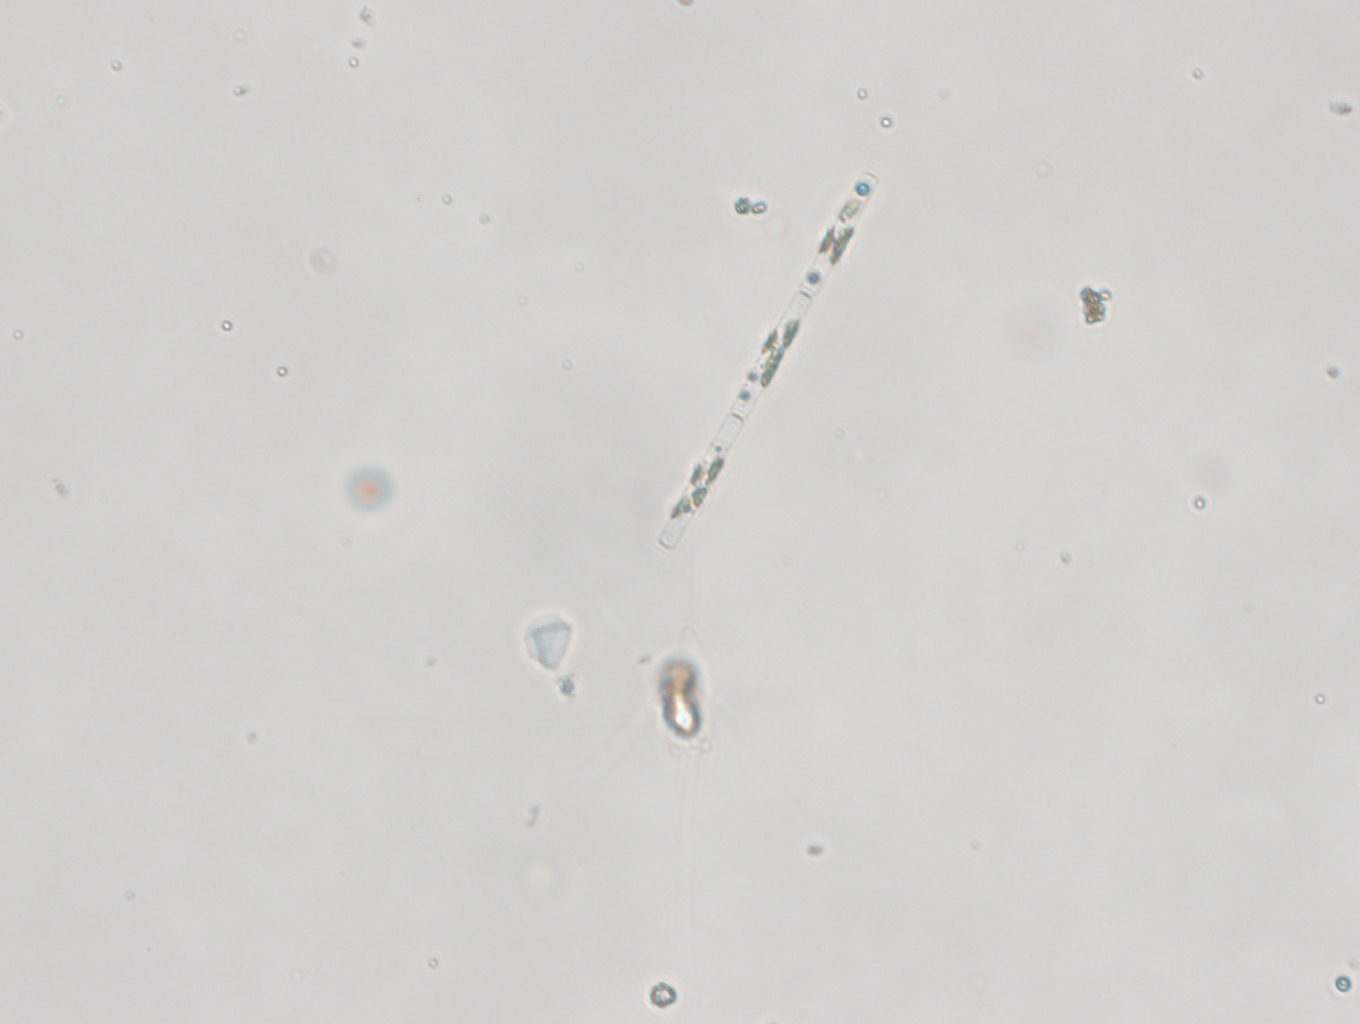guinardia flaccida: (652, 168, 891, 561)
